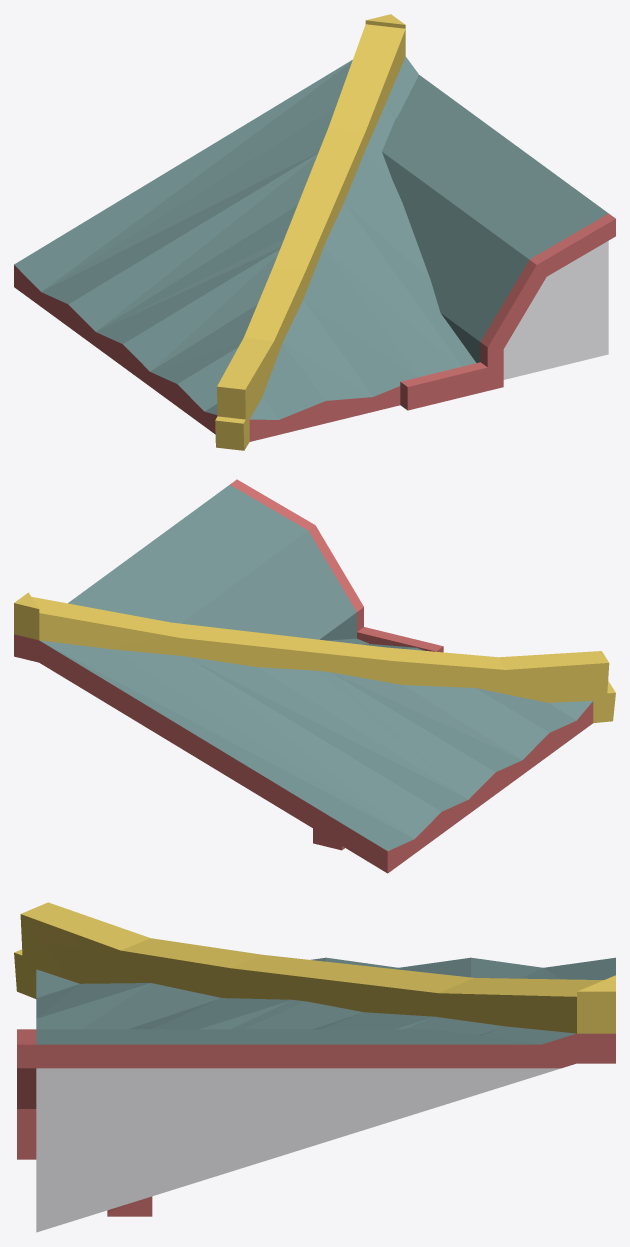
Rendered from Roof_2.fbx.
3 renders of one model, top to bottom at view 1: azimuth 30°, elevation 25°; view 2: azimuth 150°, elevation 25°; view 3: azimuth 270°, elevation 25°, orthographic. The views are drawn at different scales.
Visible parts, largest first — view 1: Asian_Prop_Building_Modular_Roof_Corner_Outer_02, Asian_Prop_Building_Modular_Roof_Corner_Outer_02.003, Asian_Prop_Building_Modular_Roof_Corner_Outer_02.002, Asian_Prop_Building_Modular_Roof_Corner_Outer_02.001; view 2: Asian_Prop_Building_Modular_Roof_Corner_Outer_02, Asian_Prop_Building_Modular_Roof_Corner_Outer_02.003, Asian_Prop_Building_Modular_Roof_Corner_Outer_02.002; view 3: Asian_Prop_Building_Modular_Roof_Corner_Outer_02.001, Asian_Prop_Building_Modular_Roof_Corner_Outer_02.003, Asian_Prop_Building_Modular_Roof_Corner_Outer_02, Asian_Prop_Building_Modular_Roof_Corner_Outer_02.002.
Boxes of the visible parts, x1,y1,x2,y2 form: Asian_Prop_Building_Modular_Roof_Corner_Outer_02: (14, 57, 608, 419); Asian_Prop_Building_Modular_Roof_Corner_Outer_02.003: (215, 14, 405, 450); Asian_Prop_Building_Modular_Roof_Corner_Outer_02.002: (14, 213, 615, 441); Asian_Prop_Building_Modular_Roof_Corner_Outer_02.001: (503, 241, 608, 379); Asian_Prop_Building_Modular_Roof_Corner_Outer_02: (39, 485, 592, 850); Asian_Prop_Building_Modular_Roof_Corner_Outer_02.003: (14, 592, 615, 722); Asian_Prop_Building_Modular_Roof_Corner_Outer_02.002: (14, 479, 593, 873); Asian_Prop_Building_Modular_Roof_Corner_Outer_02.001: (36, 1068, 560, 1232); Asian_Prop_Building_Modular_Roof_Corner_Outer_02.003: (14, 902, 615, 1033); Asian_Prop_Building_Modular_Roof_Corner_Outer_02: (36, 957, 615, 1044); Asian_Prop_Building_Modular_Roof_Corner_Outer_02.002: (17, 1029, 615, 1216).
Bounding box in the file's own units: 671 × 297 × 671.
